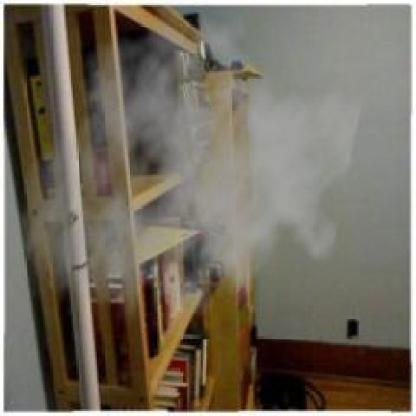Smoke: (16, 1, 365, 354)
